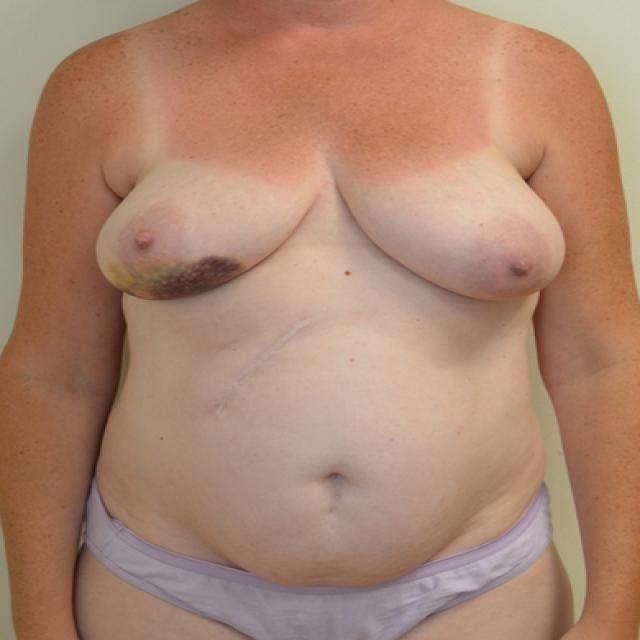Seno herido: (90, 146, 317, 308)
Seno ileso: (337, 144, 572, 312)
